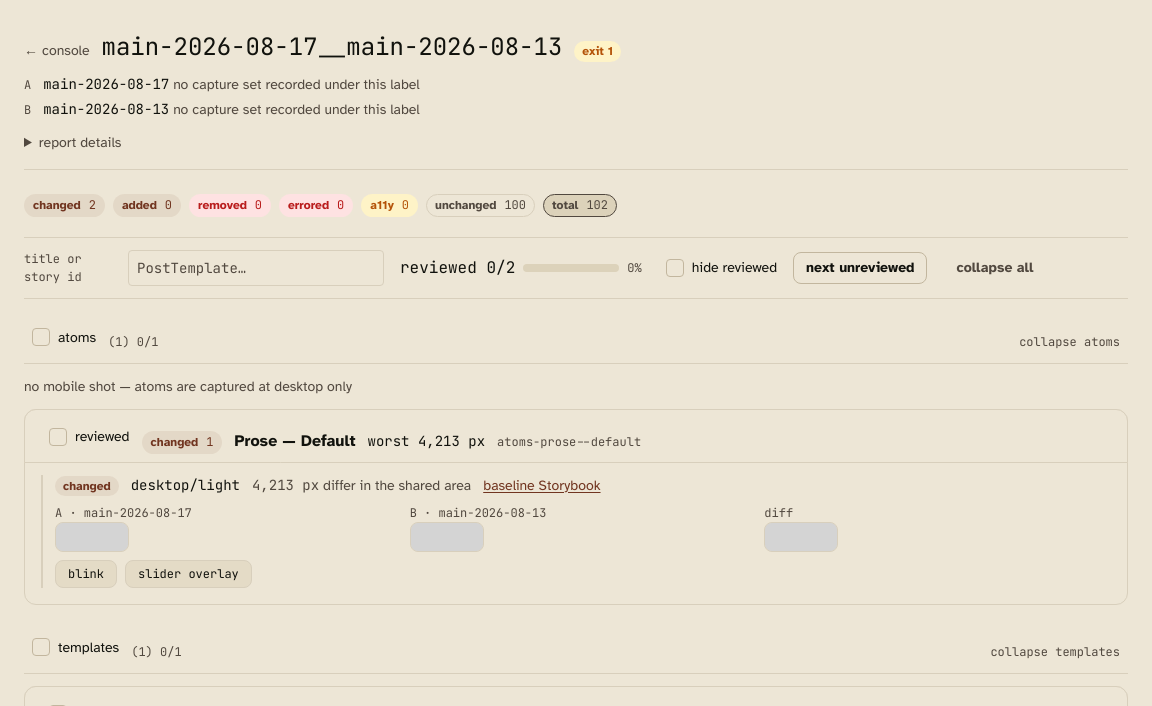
Test: the review progress › advances by one when a story is marked
Click the checkbox labelled "reviewed" in the row of "Prose — Default" at (85, 437), box [41,426,130,447]
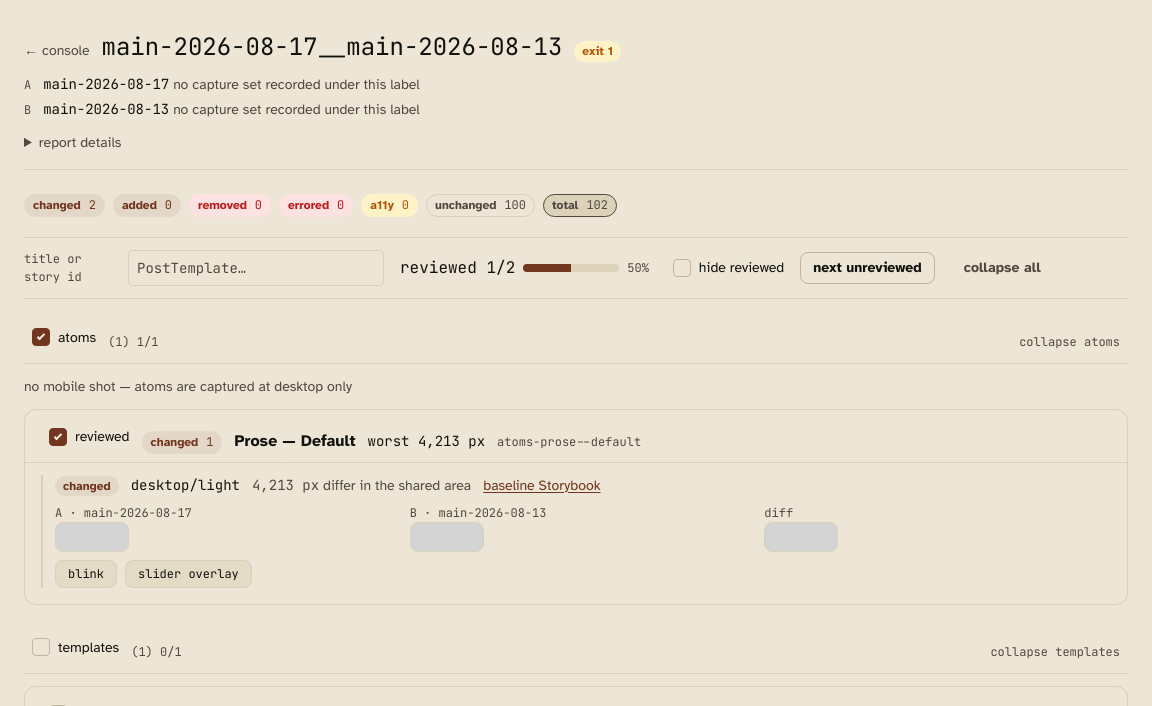
Expected: the message with test id "review-progress" reads "reviewed 1/2", [400,256,515,280]
